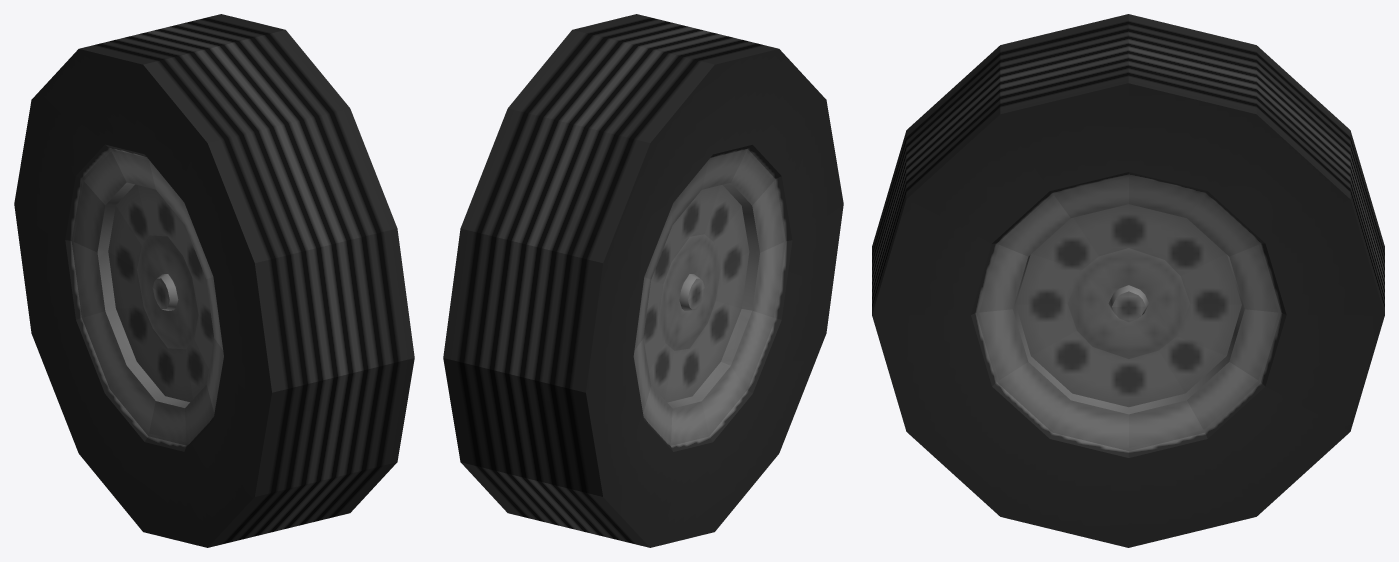
The model's file is HopperWheelC.fbx.
The picture shows the model from 3 angles, left to right: view 1: azimuth 30°, elevation 25°; view 2: azimuth 150°, elevation 25°; view 3: azimuth 270°, elevation 25°; orthographic projection.
Visible parts, largest first — view 1: HopperWheelA; view 2: HopperWheelA; view 3: HopperWheelA.
Boxes of the visible parts, bbox=[...] form: HopperWheelA: bbox=[14, 14, 414, 547]; HopperWheelA: bbox=[443, 14, 843, 547]; HopperWheelA: bbox=[872, 14, 1384, 547].
Size of the model in its own units: 0.3006 by 0.941 by 0.941.
